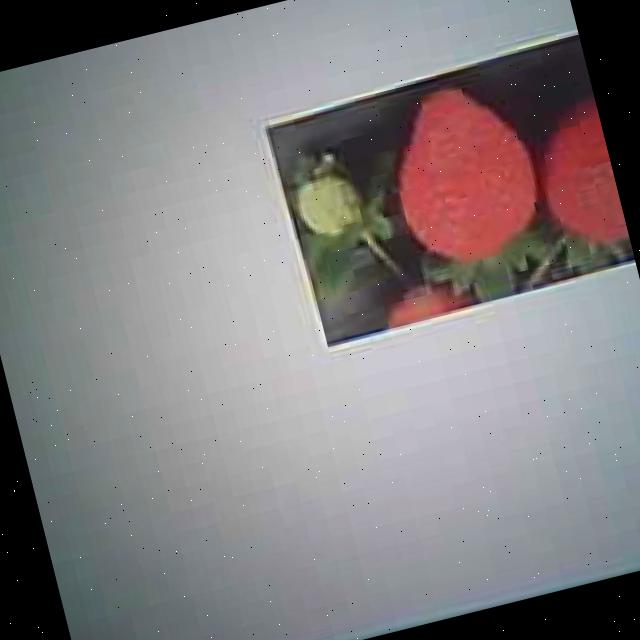strawberry: (376, 73, 550, 270), (525, 103, 631, 261), (290, 168, 365, 248)
